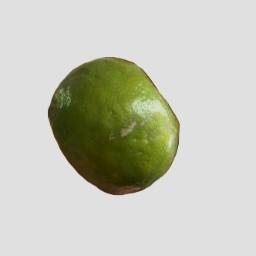Unripe: (49, 57, 179, 195)
